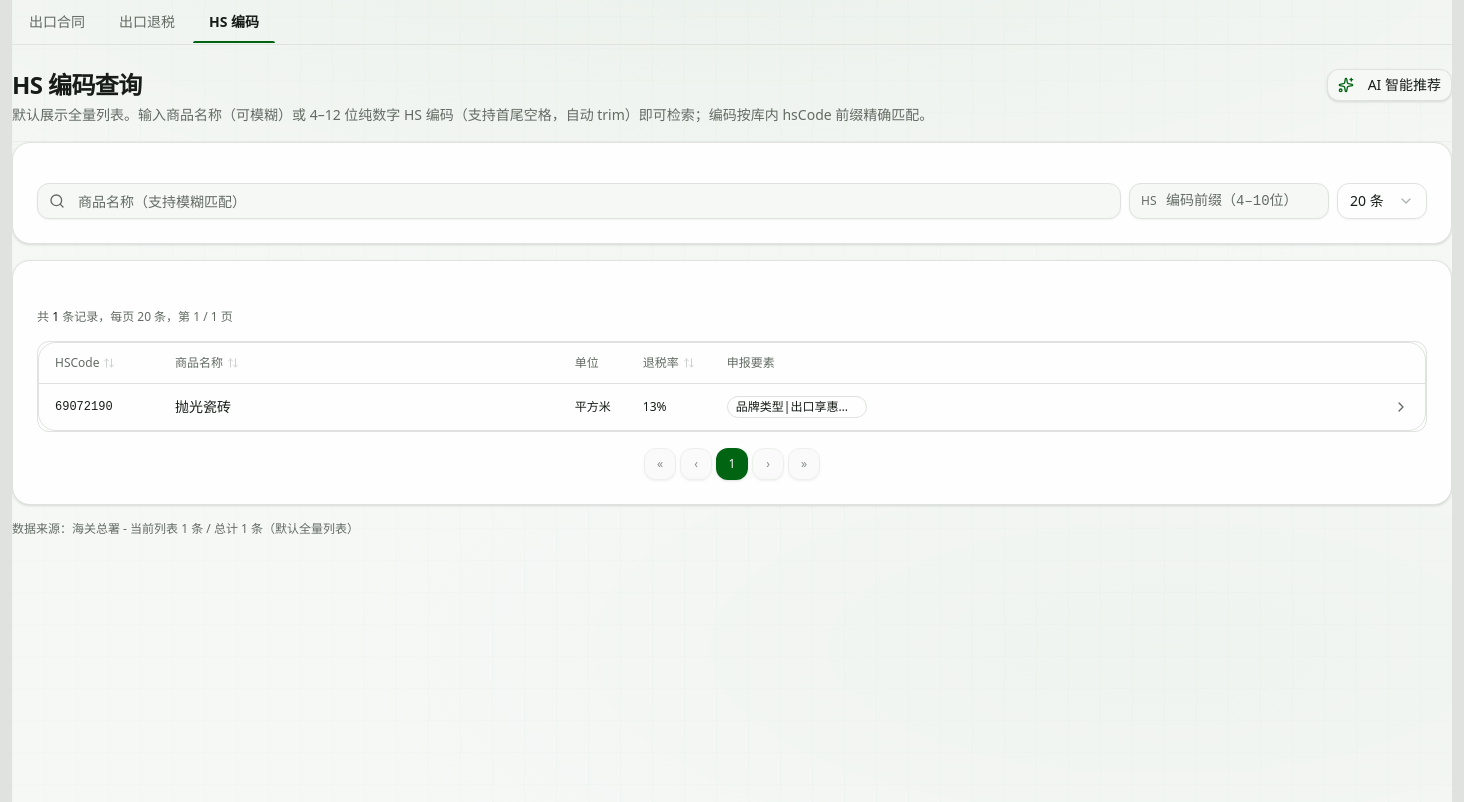
it: HsCodesPage › 详情页将申报要素拆分为更直观的分项展示
The image size is (1464, 802).
Click the cell "抛光瓷砖" at (203,406), box [159,383,559,430]
(page scrolled)
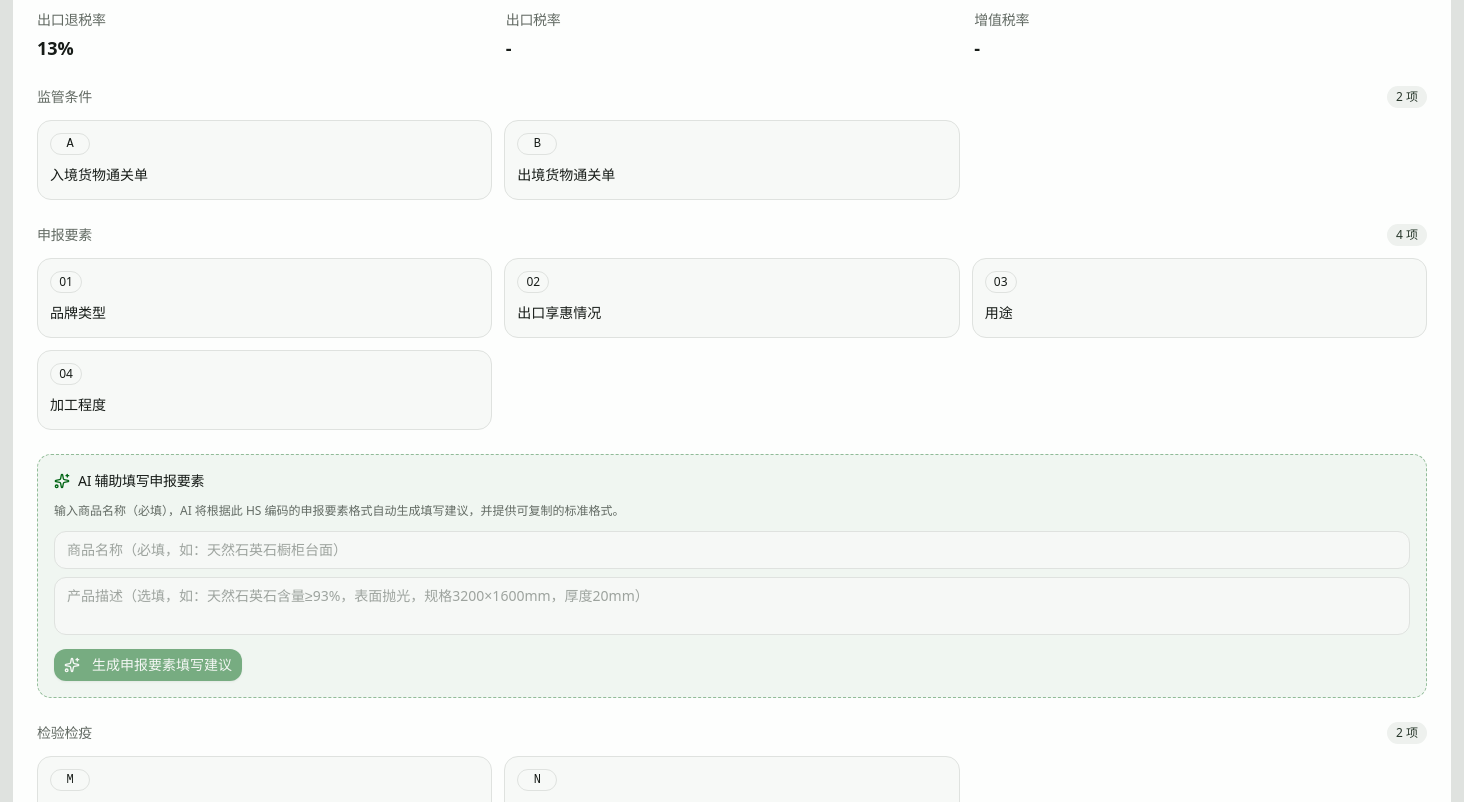
Expected: the text "品牌类型" is shown, [50,303,106,322]
Expected: the heading "申报要素" is shown, [37,225,92,245]
